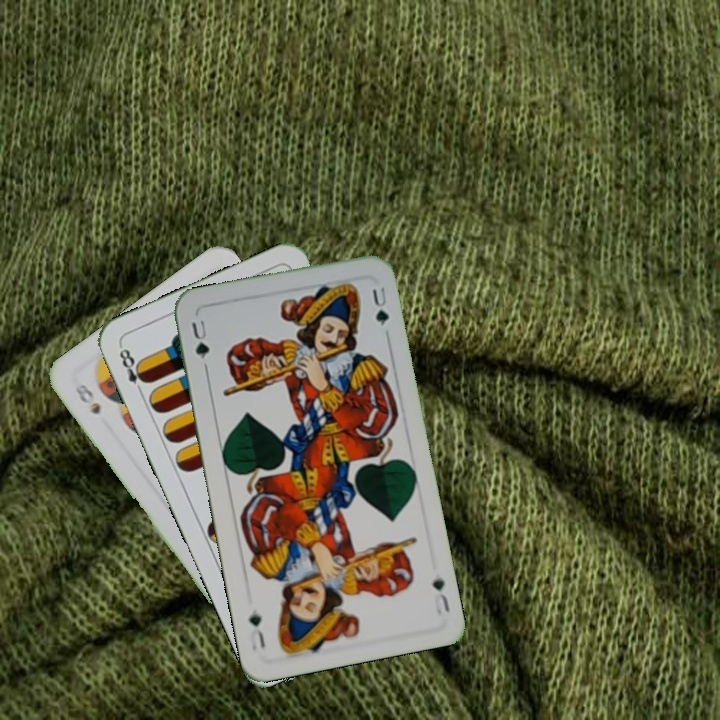E8: (115, 341, 151, 398)
GU: (187, 315, 212, 371), (428, 573, 452, 618)
S8: (70, 380, 104, 417)
